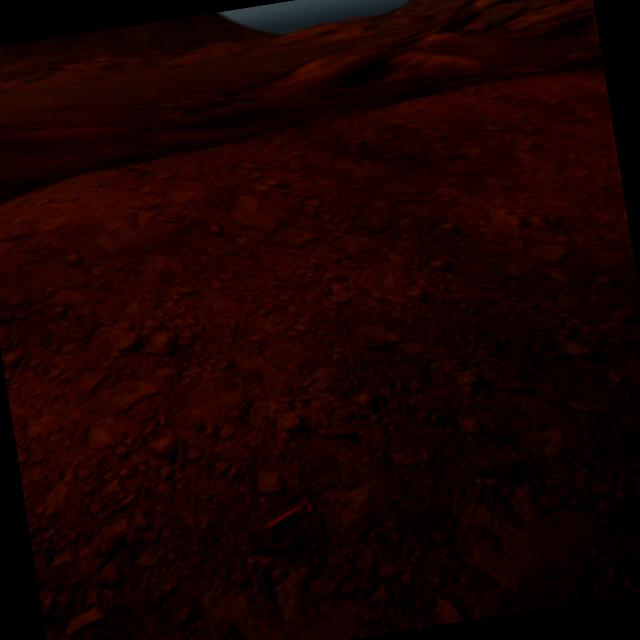newhammer: (258, 494, 314, 532)
